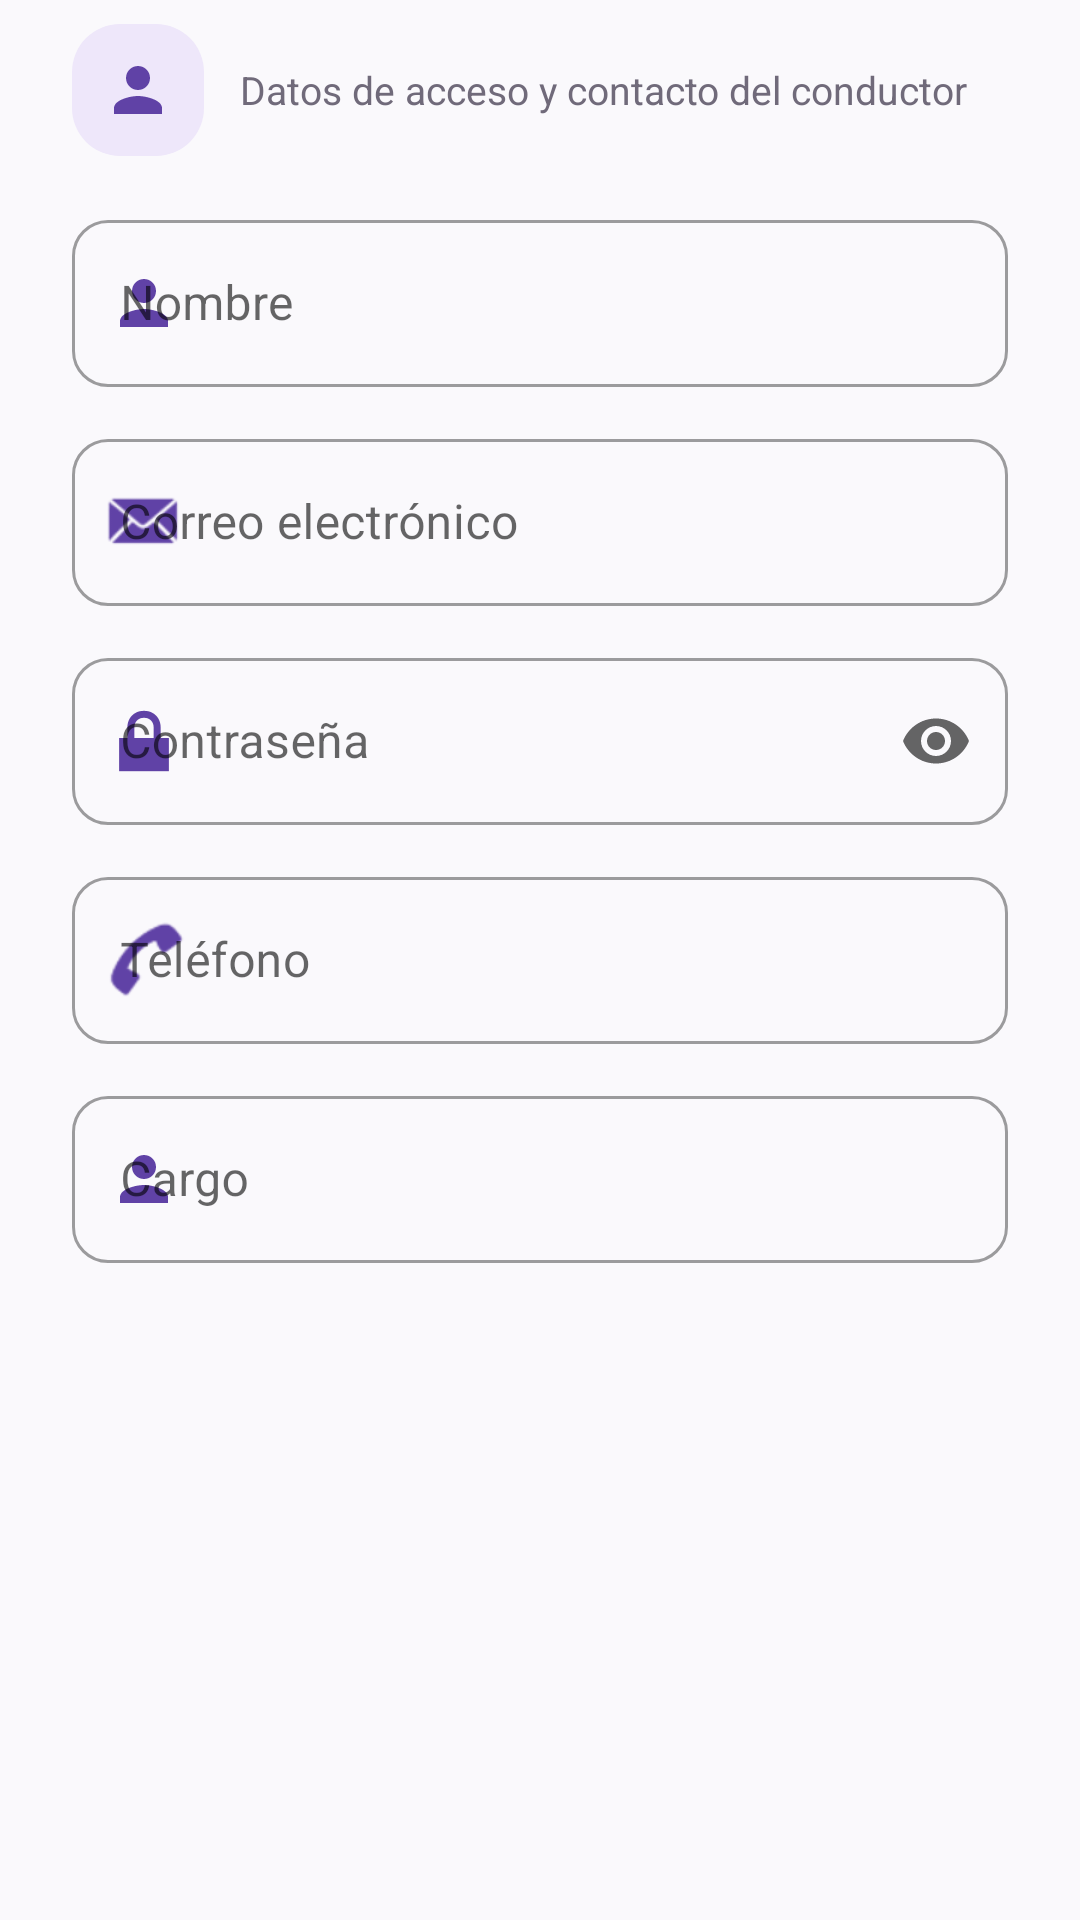

Screen size 1080 × 1920. Icon name, then its center in pixels as (x,y):
person: (138,90)
